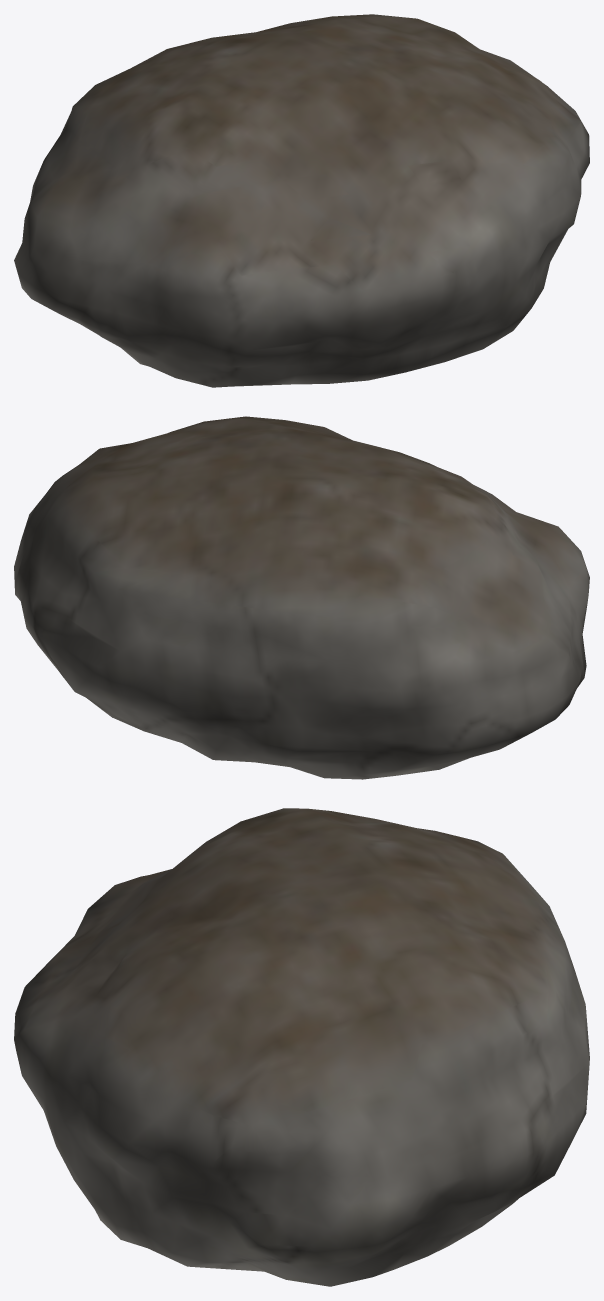
Rendered from SM_rock_boulder_05.fbx.
3 views of the same model, one above another, from view 1: azimuth 30°, elevation 25°; view 2: azimuth 150°, elevation 25°; view 3: azimuth 270°, elevation 25° (orthographic). The views are drawn at different scales.
Visible parts, largest first — view 1: SM_rock_boulder_05; view 2: SM_rock_boulder_05; view 3: SM_rock_boulder_05.
Part boxes in pixels (x1,y1,x2,y2): SM_rock_boulder_05: [14, 14, 589, 387]; SM_rock_boulder_05: [14, 416, 589, 779]; SM_rock_boulder_05: [14, 808, 589, 1286].
Bounding box in the file's own units: 2.66 × 1.23 × 2.09.
